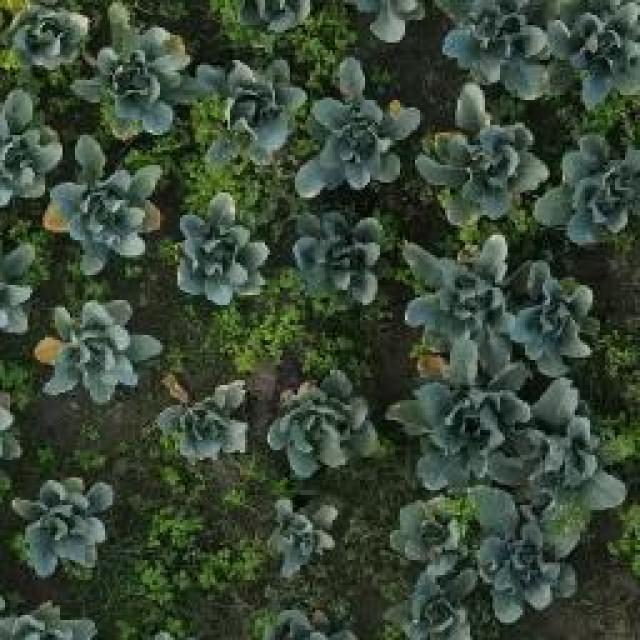cabbage: (392, 342, 540, 489), (417, 82, 548, 229), (299, 56, 423, 203), (51, 136, 167, 275), (268, 360, 380, 480), (534, 382, 632, 516), (397, 234, 512, 347), (80, 25, 190, 143), (516, 253, 612, 378), (278, 204, 383, 317), (434, 0, 554, 98), (475, 520, 594, 618), (196, 58, 306, 164), (34, 302, 162, 393), (173, 190, 270, 310), (13, 470, 118, 578), (537, 130, 640, 238), (550, 0, 640, 112), (150, 378, 247, 478), (257, 495, 348, 581), (0, 83, 62, 198), (387, 493, 478, 571), (0, 0, 83, 75), (391, 576, 473, 640)
